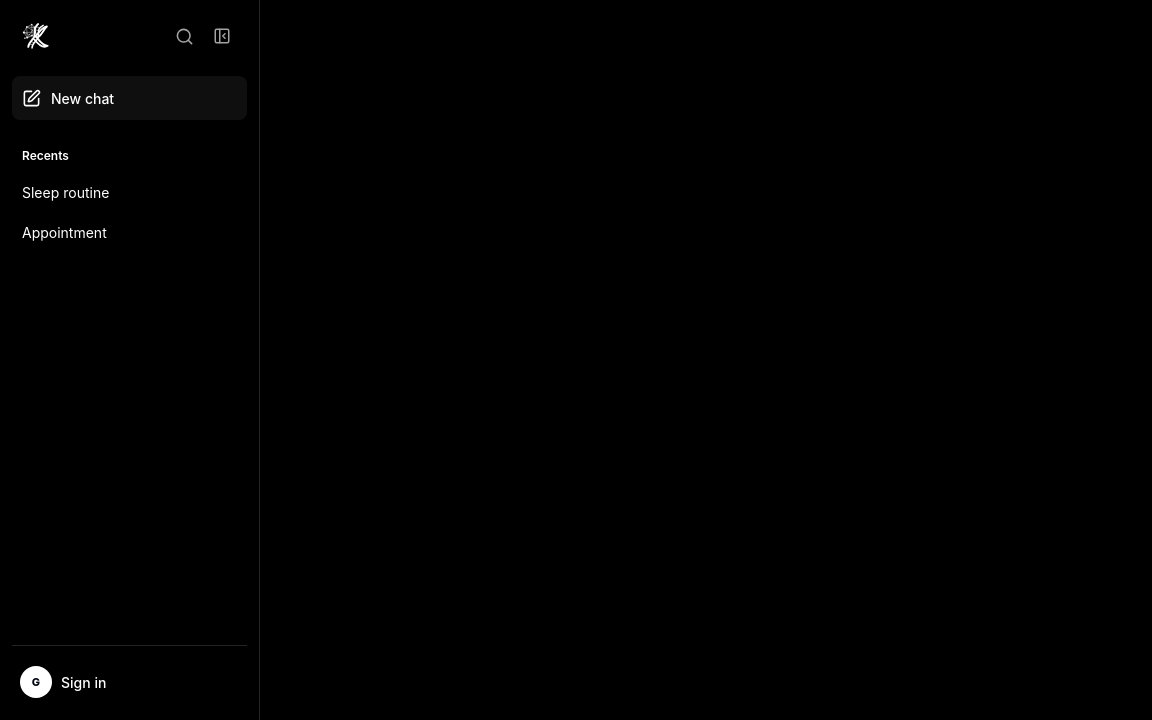
Scenario: searches and selects conversations and closes search with Escape
The image size is (1152, 720).
Step 1. Press k
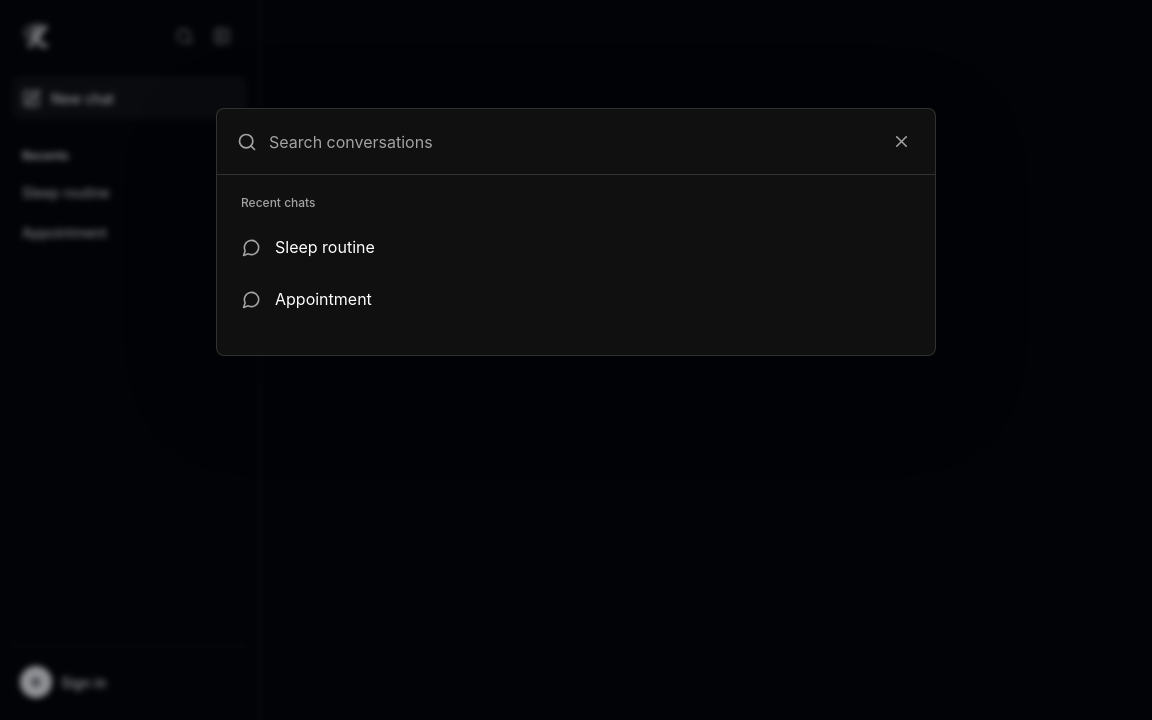
Step 2. Type "sleep" into the field → x=570, y=142, box 269,130 -> 871,154
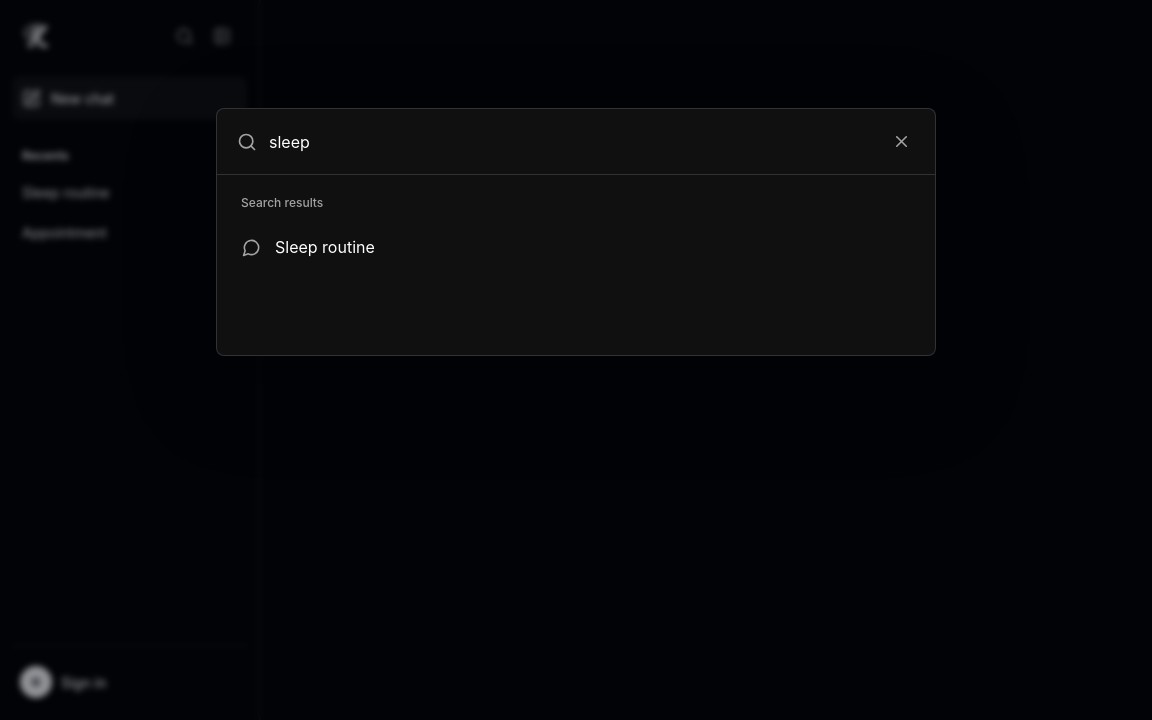
Step 3. Click the button "Sleep routine" → x=325, y=247, box 229,221 -> 923,273
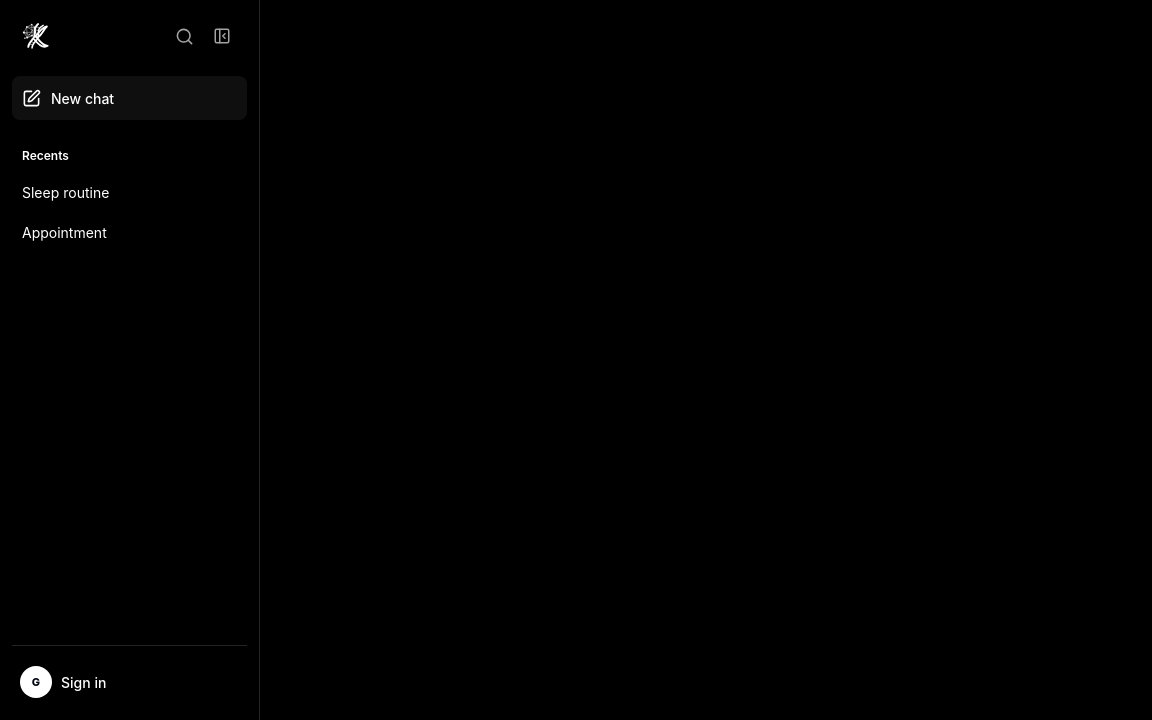
Expected: the dialog is gone
Step 4. Click the button named "Search conversations" → x=184, y=36, box 166,18 -> 202,54
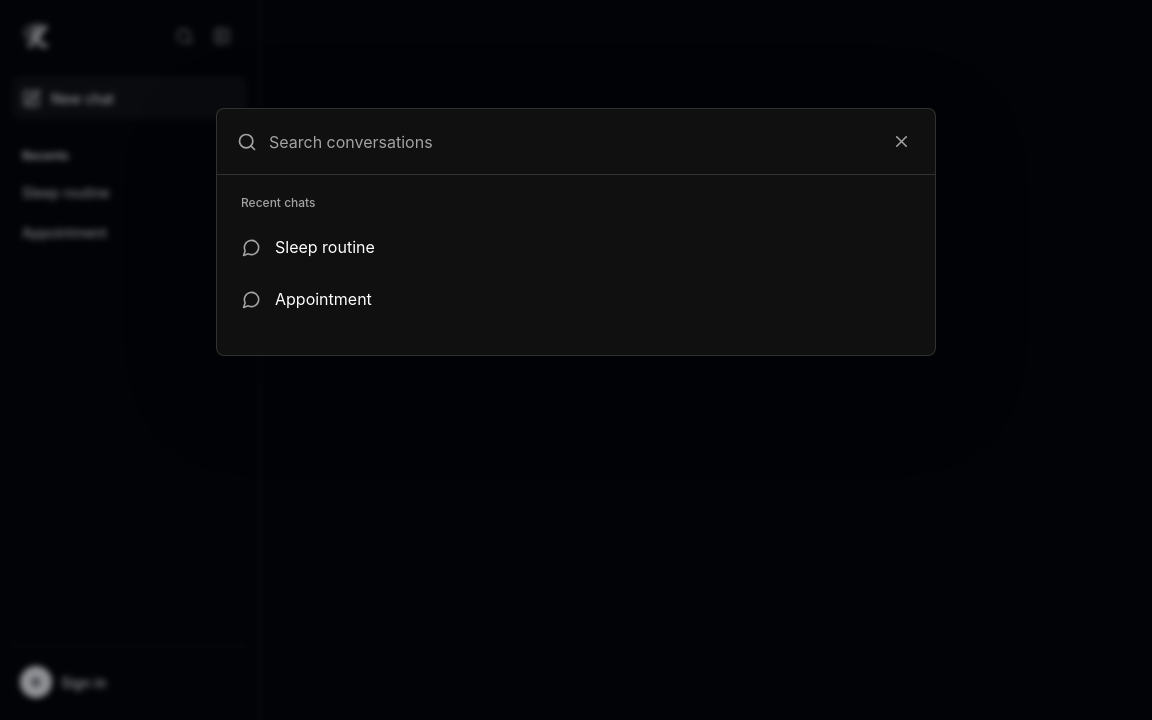
Step 5. Press Escape
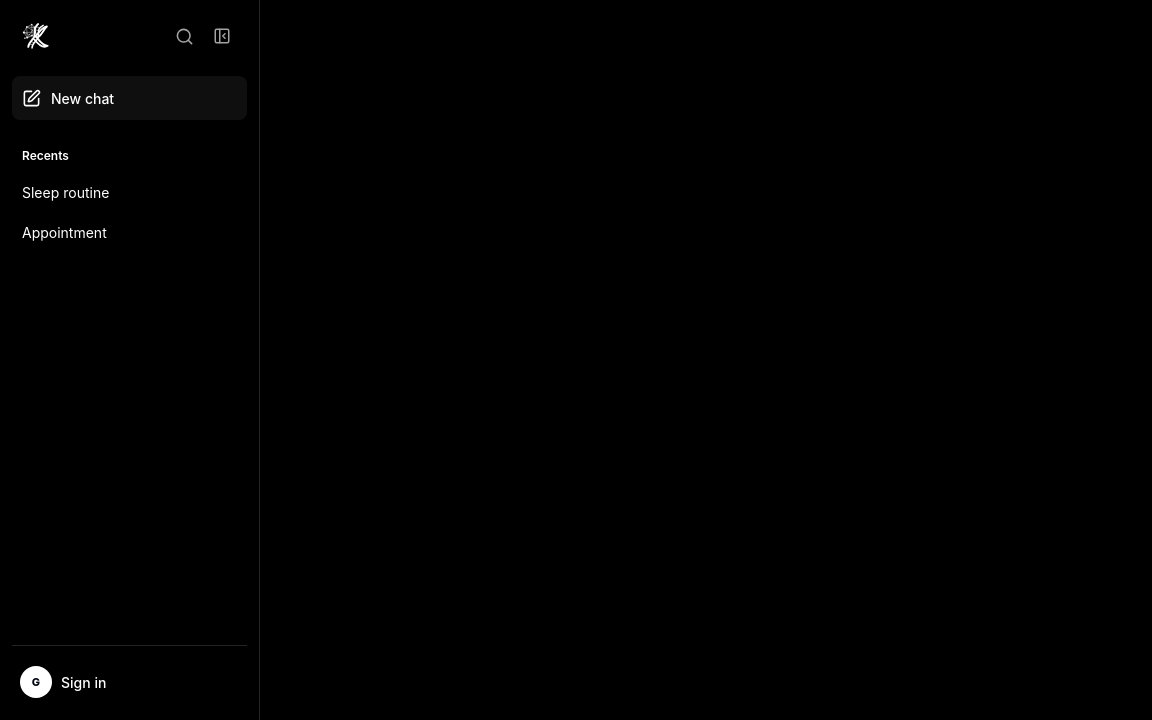
Expected: the dialog is gone
